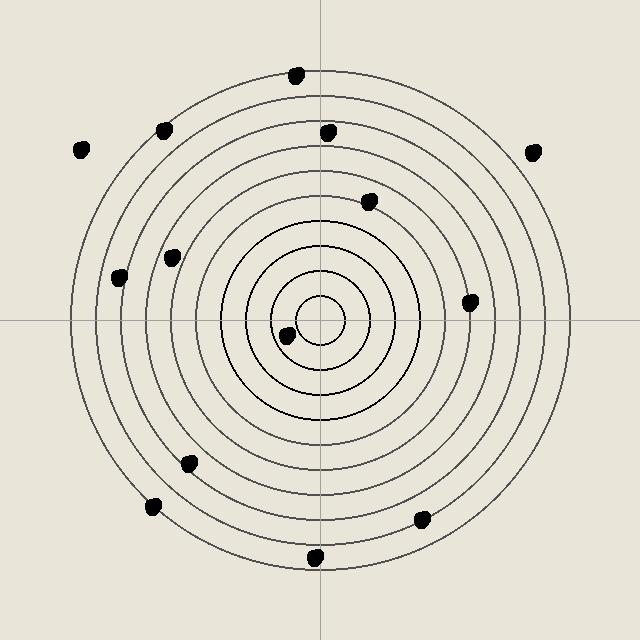random_scatter: (411, 509, 431, 529), (522, 142, 542, 162), (70, 139, 90, 159), (108, 267, 128, 287), (285, 65, 305, 85), (161, 247, 181, 267), (178, 453, 198, 473), (276, 325, 296, 345), (304, 547, 324, 567), (153, 120, 173, 140), (142, 496, 162, 516), (459, 292, 479, 312), (317, 122, 337, 142), (358, 191, 378, 211)
